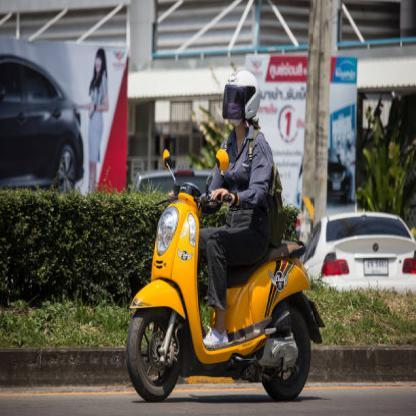Motorcycle: (121, 152, 326, 411)
